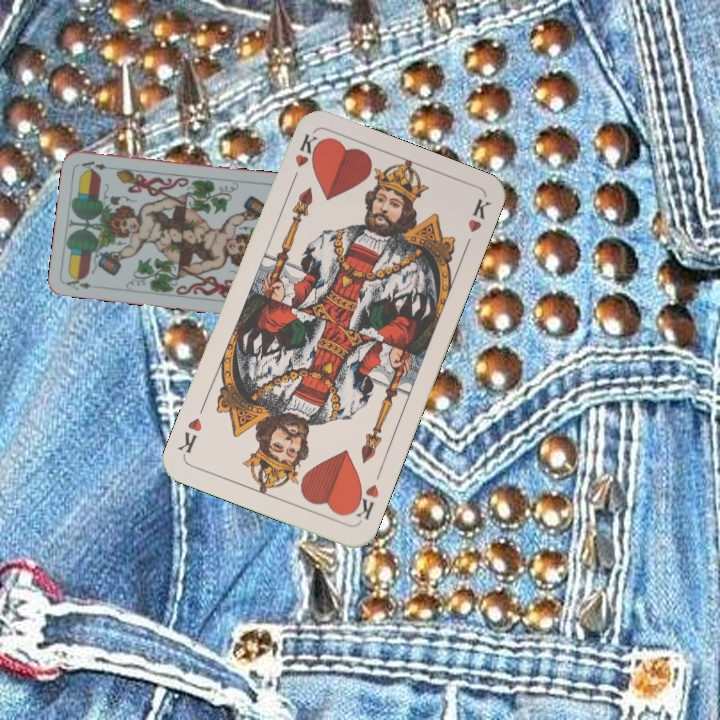EA: (63, 272, 93, 293)
HK: (286, 129, 321, 188), (346, 480, 382, 523)
